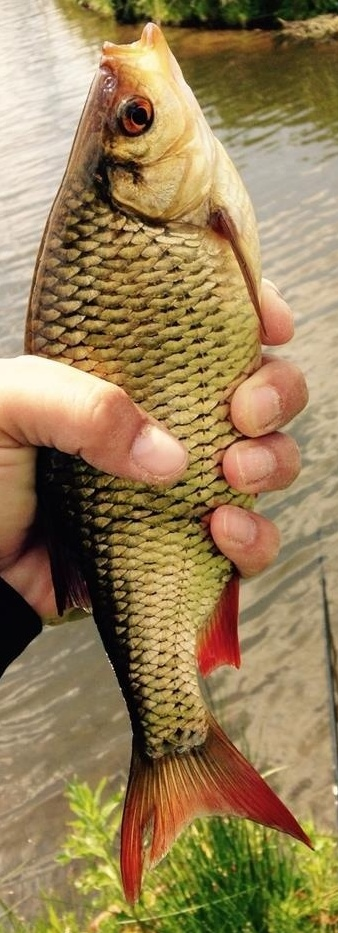Scardinius erythrophthalmus: (20, 20, 318, 913)
